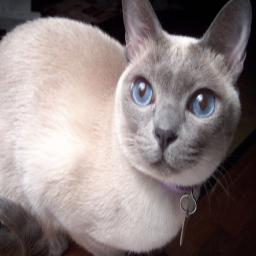catnose: (153, 126, 178, 152)
